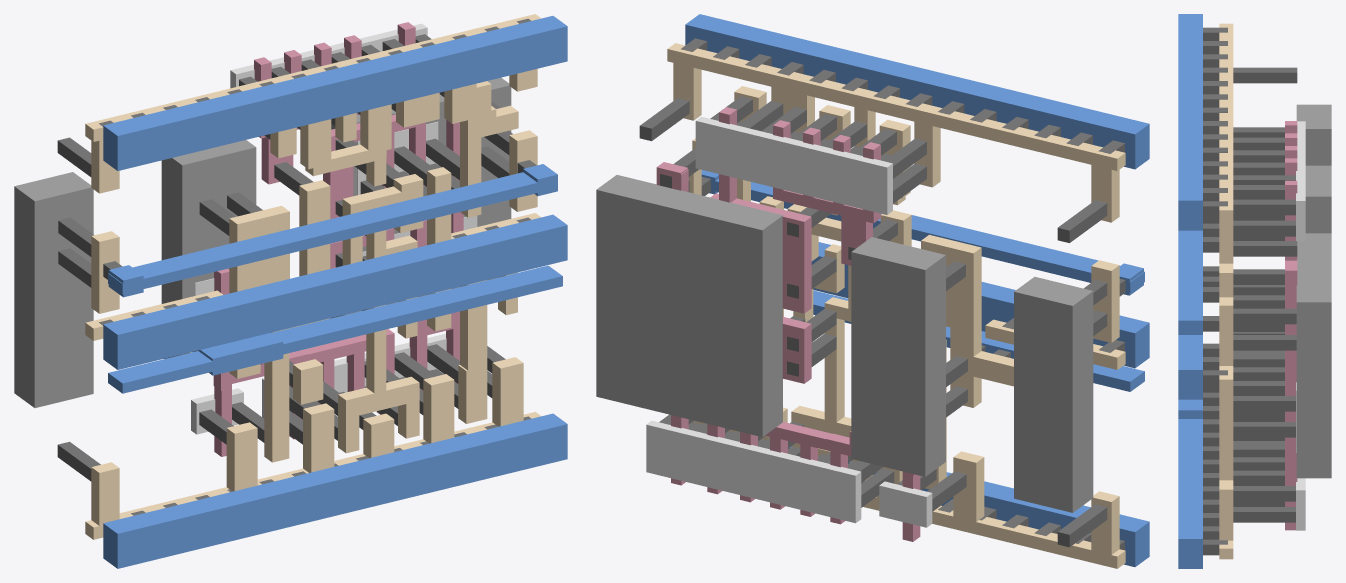
File: sky130_fd_sc_hd__lpflow_lsbuf_lh_isowell_tap_2.gds.gltf
3 renders of one model, left to right at view 1: azimuth 30°, elevation 25°; view 2: azimuth 150°, elevation 25°; view 3: azimuth 270°, elevation 25°, orthographic. The views are drawn at different scales.
Parts seen in each view (by area): view 1: sky130_fd_sc_hd__lpflow_lsbuf_lh_isowell_tap_2_met1, sky130_fd_sc_hd__lpflow_lsbuf_lh_isowell_tap_2_li1, sky130_fd_sc_hd__lpflow_lsbuf_lh_isowell_tap_2_nwell, sky130_fd_sc_hd__lpflow_lsbuf_lh_isowell_tap_2_licon, sky130_fd_sc_hd__lpflow_lsbuf_lh_isowell_tap_2_poly, sky130_fd_sc_hd__lpflow_lsbuf_lh_isowell_tap_2_diff, sky130_fd_sc_hd__lpflow_lsbuf_lh_isowell_tap_2_mcon; view 2: sky130_fd_sc_hd__lpflow_lsbuf_lh_isowell_tap_2_nwell, sky130_fd_sc_hd__lpflow_lsbuf_lh_isowell_tap_2_li1, sky130_fd_sc_hd__lpflow_lsbuf_lh_isowell_tap_2_met1, sky130_fd_sc_hd__lpflow_lsbuf_lh_isowell_tap_2_diff, sky130_fd_sc_hd__lpflow_lsbuf_lh_isowell_tap_2_licon, sky130_fd_sc_hd__lpflow_lsbuf_lh_isowell_tap_2_poly, sky130_fd_sc_hd__lpflow_lsbuf_lh_isowell_tap_2_mcon; view 3: sky130_fd_sc_hd__lpflow_lsbuf_lh_isowell_tap_2_licon, sky130_fd_sc_hd__lpflow_lsbuf_lh_isowell_tap_2_met1, sky130_fd_sc_hd__lpflow_lsbuf_lh_isowell_tap_2_nwell, sky130_fd_sc_hd__lpflow_lsbuf_lh_isowell_tap_2_mcon, sky130_fd_sc_hd__lpflow_lsbuf_lh_isowell_tap_2_li1, sky130_fd_sc_hd__lpflow_lsbuf_lh_isowell_tap_2_poly, sky130_fd_sc_hd__lpflow_lsbuf_lh_isowell_tap_2_diff.
Part boxes in pixels (bbox=[...]): sky130_fd_sc_hd__lpflow_lsbuf_lh_isowell_tap_2_met1: bbox=[103, 16, 567, 568]; sky130_fd_sc_hd__lpflow_lsbuf_lh_isowell_tap_2_li1: bbox=[85, 14, 541, 539]; sky130_fd_sc_hd__lpflow_lsbuf_lh_isowell_tap_2_nwell: bbox=[14, 77, 511, 407]; sky130_fd_sc_hd__lpflow_lsbuf_lh_isowell_tap_2_licon: bbox=[57, 34, 512, 481]; sky130_fd_sc_hd__lpflow_lsbuf_lh_isowell_tap_2_poly: bbox=[213, 22, 463, 456]; sky130_fd_sc_hd__lpflow_lsbuf_lh_isowell_tap_2_diff: bbox=[191, 23, 477, 434]; sky130_fd_sc_hd__lpflow_lsbuf_lh_isowell_tap_2_mcon: bbox=[99, 18, 536, 515]; sky130_fd_sc_hd__lpflow_lsbuf_lh_isowell_tap_2_nwell: bbox=[596, 175, 1093, 512]; sky130_fd_sc_hd__lpflow_lsbuf_lh_isowell_tap_2_li1: bbox=[667, 43, 1125, 568]; sky130_fd_sc_hd__lpflow_lsbuf_lh_isowell_tap_2_met1: bbox=[685, 14, 1149, 566]; sky130_fd_sc_hd__lpflow_lsbuf_lh_isowell_tap_2_diff: bbox=[646, 116, 932, 527]; sky130_fd_sc_hd__lpflow_lsbuf_lh_isowell_tap_2_licon: bbox=[639, 96, 1107, 547]; sky130_fd_sc_hd__lpflow_lsbuf_lh_isowell_tap_2_poly: bbox=[656, 107, 920, 541]; sky130_fd_sc_hd__lpflow_lsbuf_lh_isowell_tap_2_mcon: bbox=[681, 38, 1125, 550]; sky130_fd_sc_hd__lpflow_lsbuf_lh_isowell_tap_2_licon: bbox=[1233, 67, 1297, 522]; sky130_fd_sc_hd__lpflow_lsbuf_lh_isowell_tap_2_met1: bbox=[1178, 14, 1202, 568]; sky130_fd_sc_hd__lpflow_lsbuf_lh_isowell_tap_2_nwell: bbox=[1296, 104, 1331, 478]; sky130_fd_sc_hd__lpflow_lsbuf_lh_isowell_tap_2_mcon: bbox=[1203, 27, 1227, 555]; sky130_fd_sc_hd__lpflow_lsbuf_lh_isowell_tap_2_li1: bbox=[1219, 23, 1233, 559]; sky130_fd_sc_hd__lpflow_lsbuf_lh_isowell_tap_2_poly: bbox=[1285, 121, 1297, 530]; sky130_fd_sc_hd__lpflow_lsbuf_lh_isowell_tap_2_diff: bbox=[1296, 121, 1305, 530].
Size of the model in its own units: 6.82 by 5.92 by 2.24.
